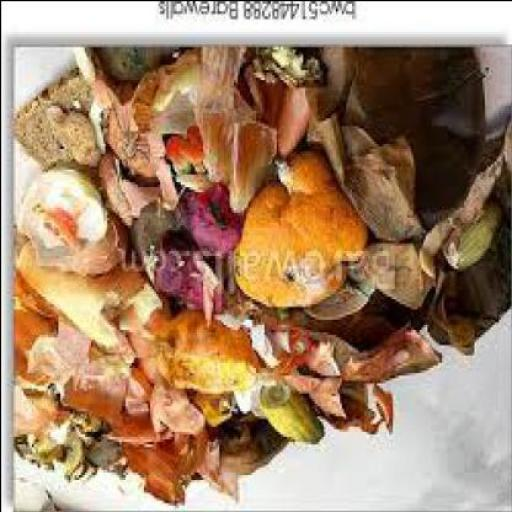biodegradable: (306, 48, 483, 245), (422, 117, 511, 361), (234, 158, 370, 308), (308, 102, 424, 244), (192, 46, 282, 216), (256, 306, 442, 384), (128, 198, 239, 316), (18, 242, 127, 362), (2, 402, 125, 482), (110, 81, 180, 214), (14, 74, 108, 173), (18, 171, 110, 260), (116, 54, 209, 142), (155, 316, 259, 394), (240, 61, 316, 163), (66, 377, 168, 451), (18, 214, 128, 278), (77, 46, 135, 163), (357, 234, 441, 314), (114, 436, 194, 510), (178, 178, 242, 260), (210, 425, 290, 482), (94, 50, 182, 100), (320, 384, 398, 436), (261, 385, 326, 446), (108, 270, 159, 344), (447, 206, 503, 273), (165, 125, 217, 196), (16, 306, 59, 389), (46, 105, 100, 171), (249, 51, 332, 92), (306, 272, 371, 324), (196, 436, 241, 510), (147, 384, 206, 438), (75, 354, 133, 405), (239, 318, 295, 368), (37, 206, 84, 256), (16, 390, 62, 441), (14, 272, 57, 320), (16, 438, 70, 474), (31, 425, 71, 466), (127, 369, 155, 426), (194, 398, 237, 433), (236, 390, 264, 422), (190, 464, 204, 481)
